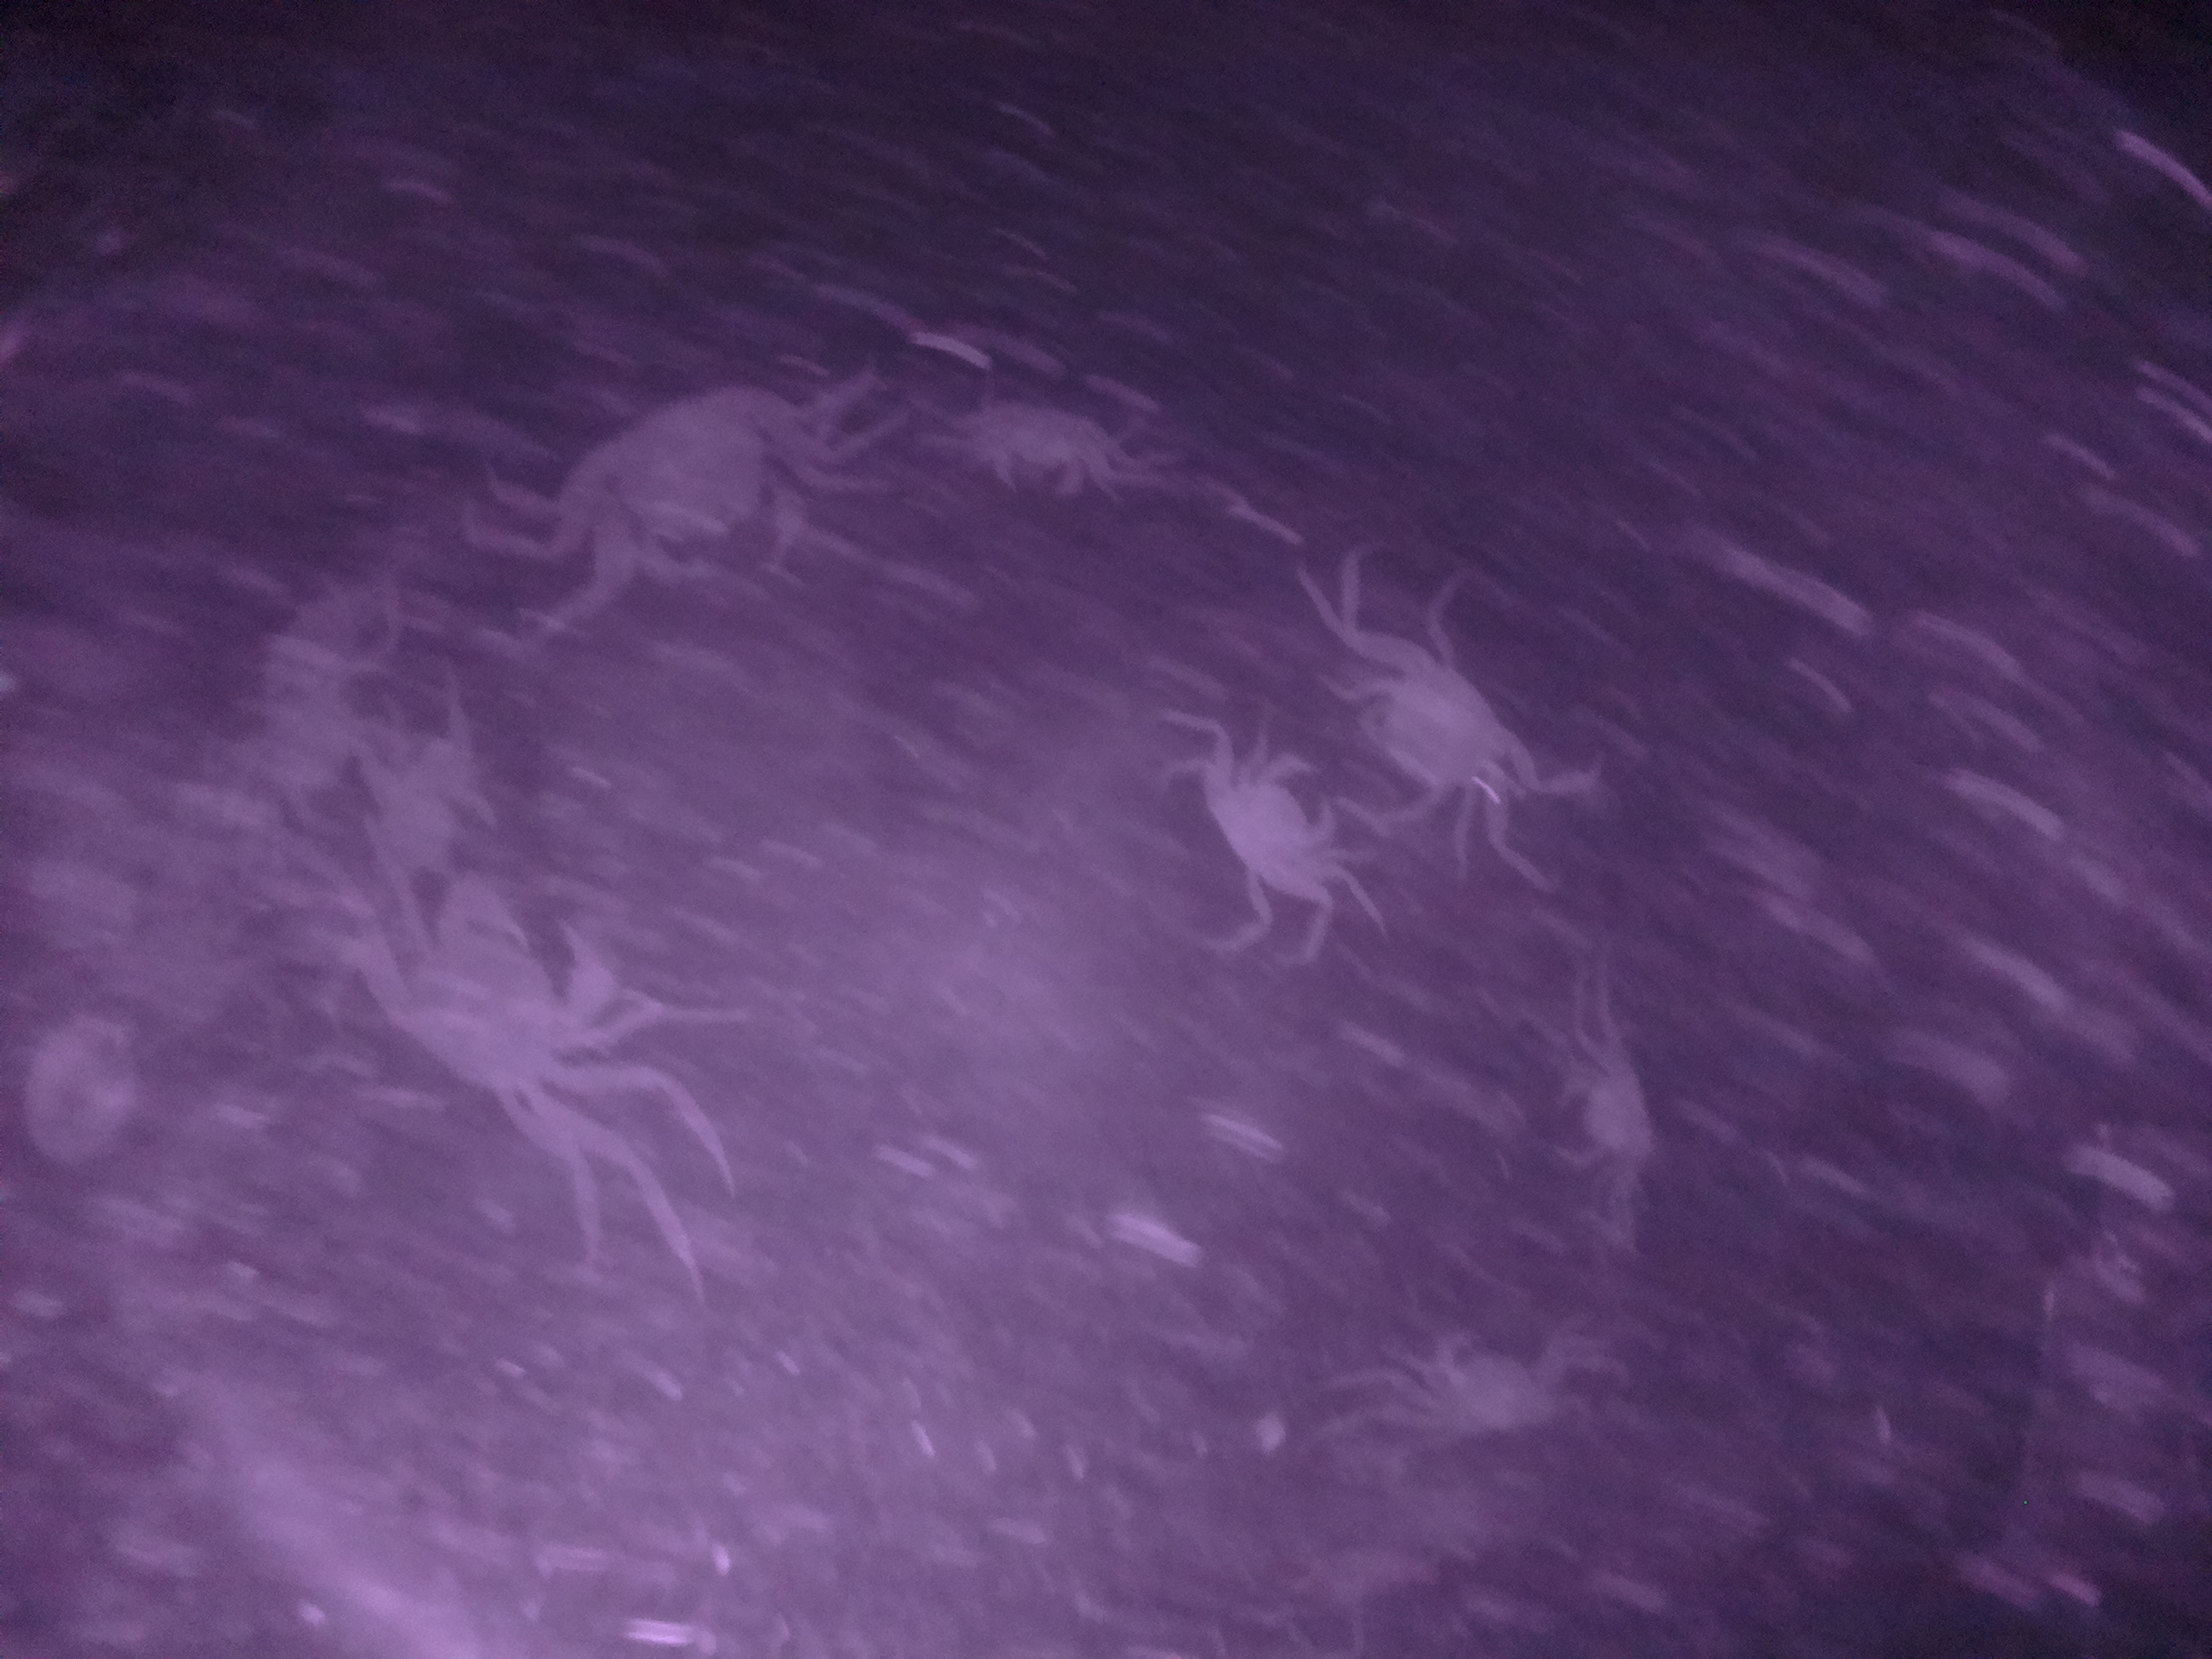Crab: (1179, 728, 1367, 929)
